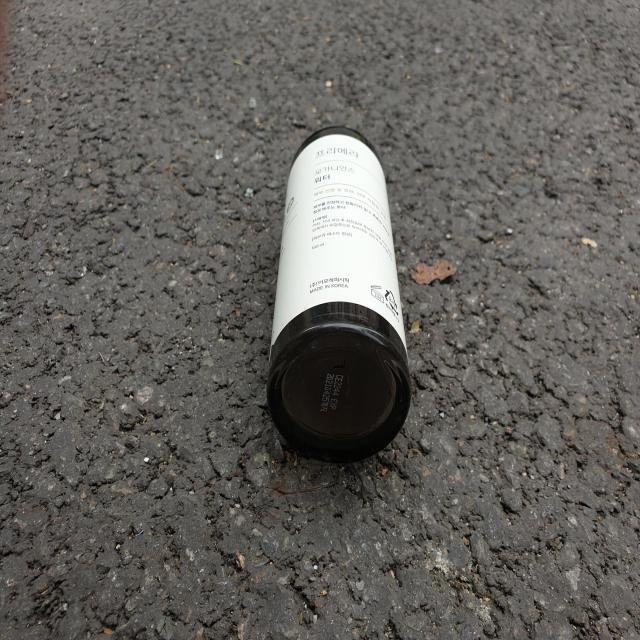glass: (267, 126, 411, 463)
